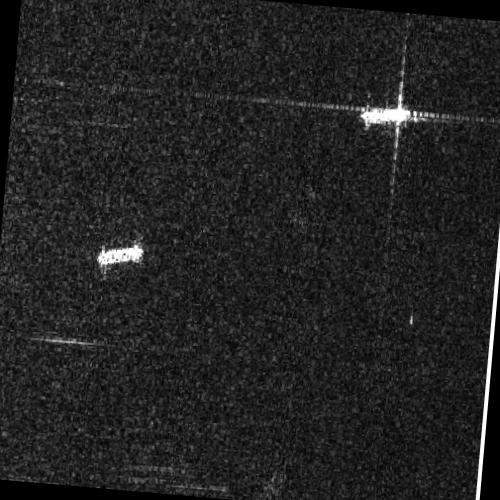ship: (96, 242, 144, 267), (358, 105, 413, 125)
